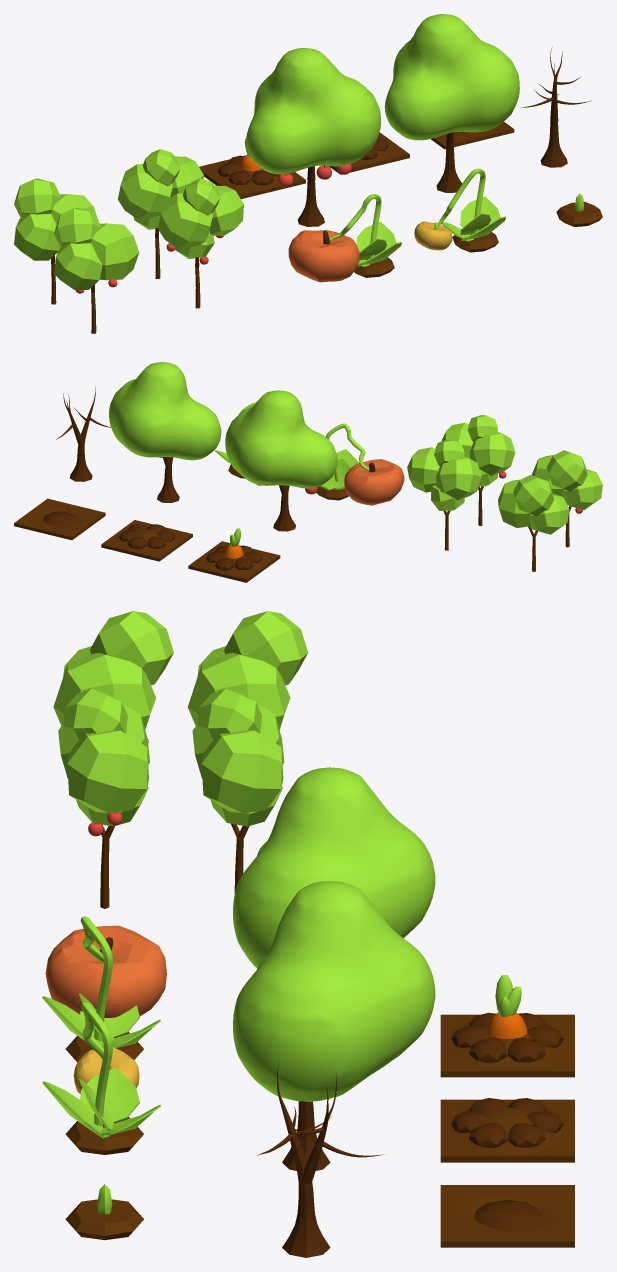
Rendered from vegetables_planter.fbx.
3 views of the same model, one above another, from view 1: azimuth 30°, elevation 25°; view 2: azimuth 150°, elevation 25°; view 3: azimuth 270°, elevation 25° (orthographic). The views are drawn at different scales.
Parts seen in each view (by area): view 1: appletree_tier3, appletree_tier2, apple.002, pumpkin_planter_tier3, apple.001, apple, apple.003, pumpkin_planter_tier2, carrot_planter_tier3, appletree_tier1, carrot_planter_tier2, pumpkin-planter_tier1 (+1 smaller); view 2: appletree_tier3, appletree_tier2, apple, pumpkin_planter_tier3, apple.003, apple.001, apple.002, carrot_planter_tier3, carrot_planter_tier2, carrot_planter_tier1, appletree_tier1; view 3: appletree_tier2, appletree_tier3, pumpkin_planter_tier3, apple.001, apple, carrot_planter_tier3, carrot_planter_tier2, carrot_planter_tier1, pumpkin_planter_tier2, apple.002, apple.003, appletree_tier1 (+1 smaller).
Boxes of the visible parts, x1,y1,x2,y2 form: appletree_tier3: [246, 48, 380, 226]; appletree_tier2: [384, 14, 519, 192]; apple.002: [54, 207, 139, 333]; pumpkin_planter_tier3: [288, 194, 401, 282]; apple.001: [158, 178, 243, 308]; apple: [118, 149, 203, 278]; apple.003: [14, 178, 97, 304]; pumpkin_planter_tier2: [414, 168, 505, 252]; carrot_planter_tier3: [199, 138, 305, 199]; appletree_tier1: [520, 47, 591, 167]; carrot_planter_tier2: [329, 132, 409, 174]; pumpkin-planter_tier1: [556, 193, 602, 226]; appletree_tier3: [225, 390, 337, 531]; appletree_tier2: [109, 362, 221, 502]; apple: [407, 439, 481, 550]; pumpkin_planter_tier3: [316, 423, 404, 505]; apple.003: [498, 474, 569, 571]; apple.001: [441, 415, 515, 525]; apple.002: [531, 450, 602, 547]; carrot_planter_tier3: [188, 528, 280, 582]; carrot_planter_tier2: [101, 520, 192, 561]; carrot_planter_tier1: [14, 498, 105, 540]; appletree_tier1: [56, 385, 110, 481]; appletree_tier2: [233, 881, 435, 1170]; appletree_tier3: [233, 767, 435, 968]; pumpkin_planter_tier3: [42, 916, 166, 1062]; apple.001: [58, 688, 149, 908]; apple: [192, 688, 284, 893]; carrot_planter_tier3: [440, 975, 574, 1077]; carrot_planter_tier2: [440, 1098, 574, 1162]; carrot_planter_tier1: [440, 1185, 574, 1247]; pumpkin_planter_tier2: [42, 1001, 160, 1154]; apple.002: [53, 611, 173, 742]; apple.003: [188, 611, 308, 729]; appletree_tier1: [257, 1063, 383, 1257].
Bounding box in the file's own units: 1675 × 475 × 793.
